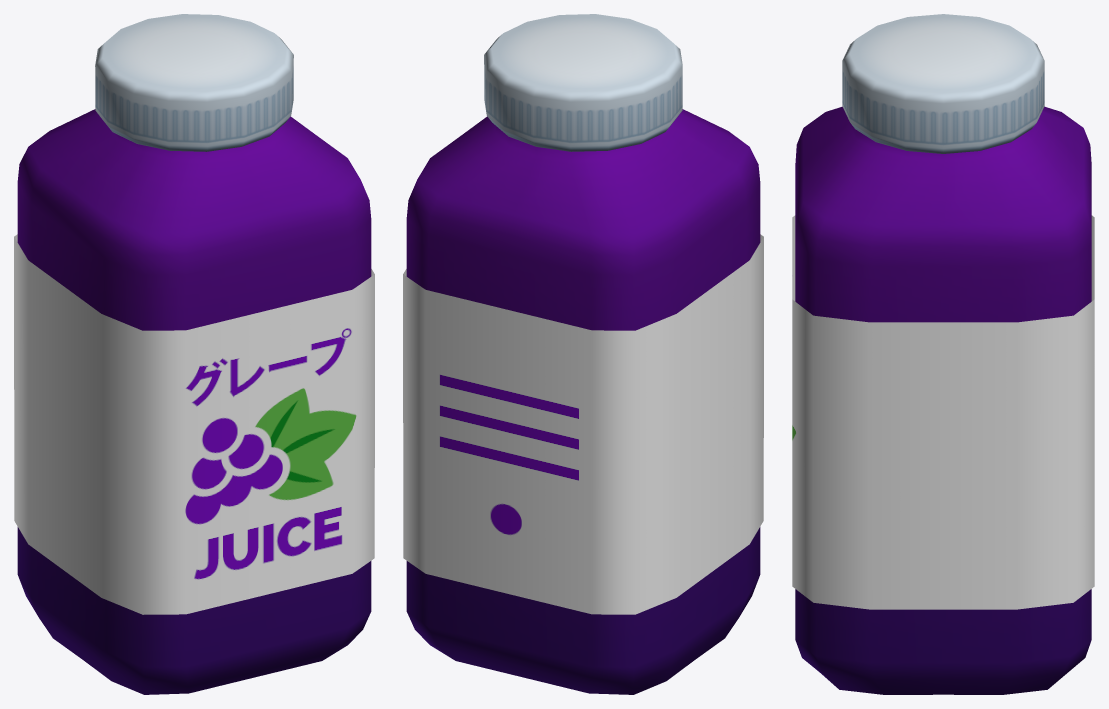
Rendered from Juice_Bottle_04_Violet.fbx.
3 renders of one model, left to right at view 1: azimuth 30°, elevation 25°; view 2: azimuth 150°, elevation 25°; view 3: azimuth 270°, elevation 25°, orthographic.
Visible parts, largest first — view 1: Juice_Bottle_04_Violet; view 2: Juice_Bottle_04_Violet; view 3: Juice_Bottle_04_Violet.
Part boxes in pixels (<box>): Juice_Bottle_04_Violet: <box>14,14,374,694</box>; Juice_Bottle_04_Violet: <box>403,14,763,694</box>; Juice_Bottle_04_Violet: <box>792,14,1094,694</box>.
Size of the model in its own units: 2.85 by 6.08 by 2.84.
